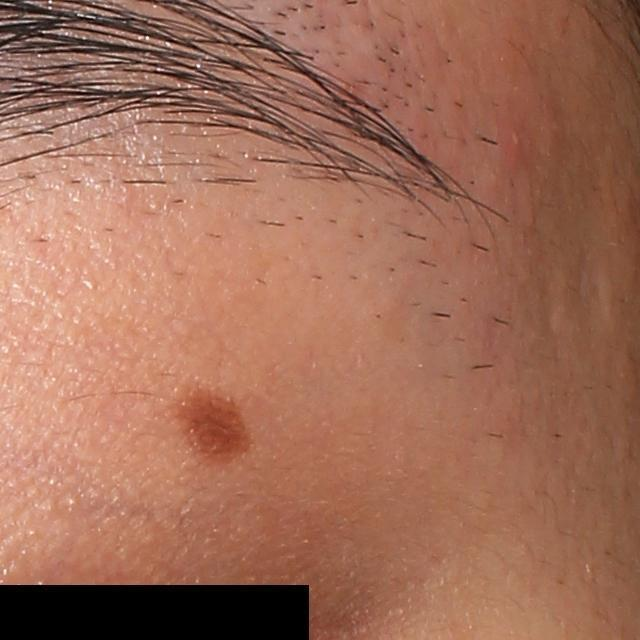nevus: (181, 391, 251, 461)
